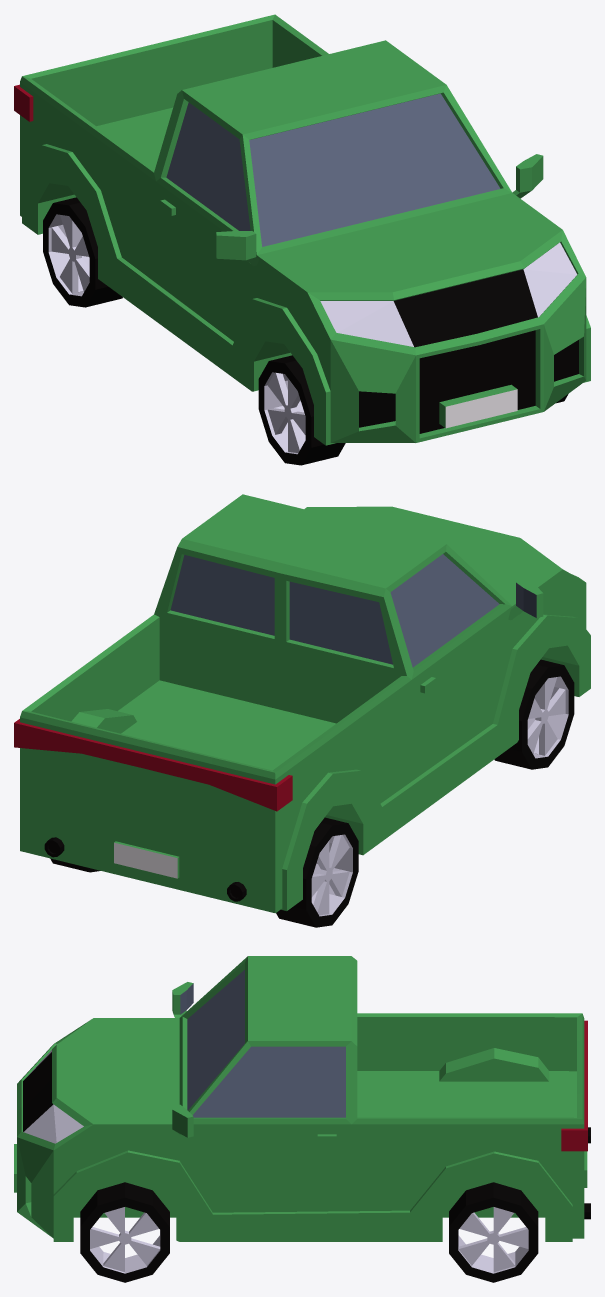
The model's file is pickup.glb.
3 renders of one model, top to bottom at view 1: azimuth 30°, elevation 25°; view 2: azimuth 150°, elevation 25°; view 3: azimuth 270°, elevation 25°, orthographic. The views are drawn at different scales.
Parts seen in each view (by area): view 1: body; view 2: body; view 3: body.
Boxes of the visible parts, box(x1,y1,x2,y2) form: body: box(14, 14, 590, 465); body: box(14, 494, 590, 927); body: box(14, 956, 590, 1282).
Size of the model in its own units: 2.81 by 2.21 by 5.04.
